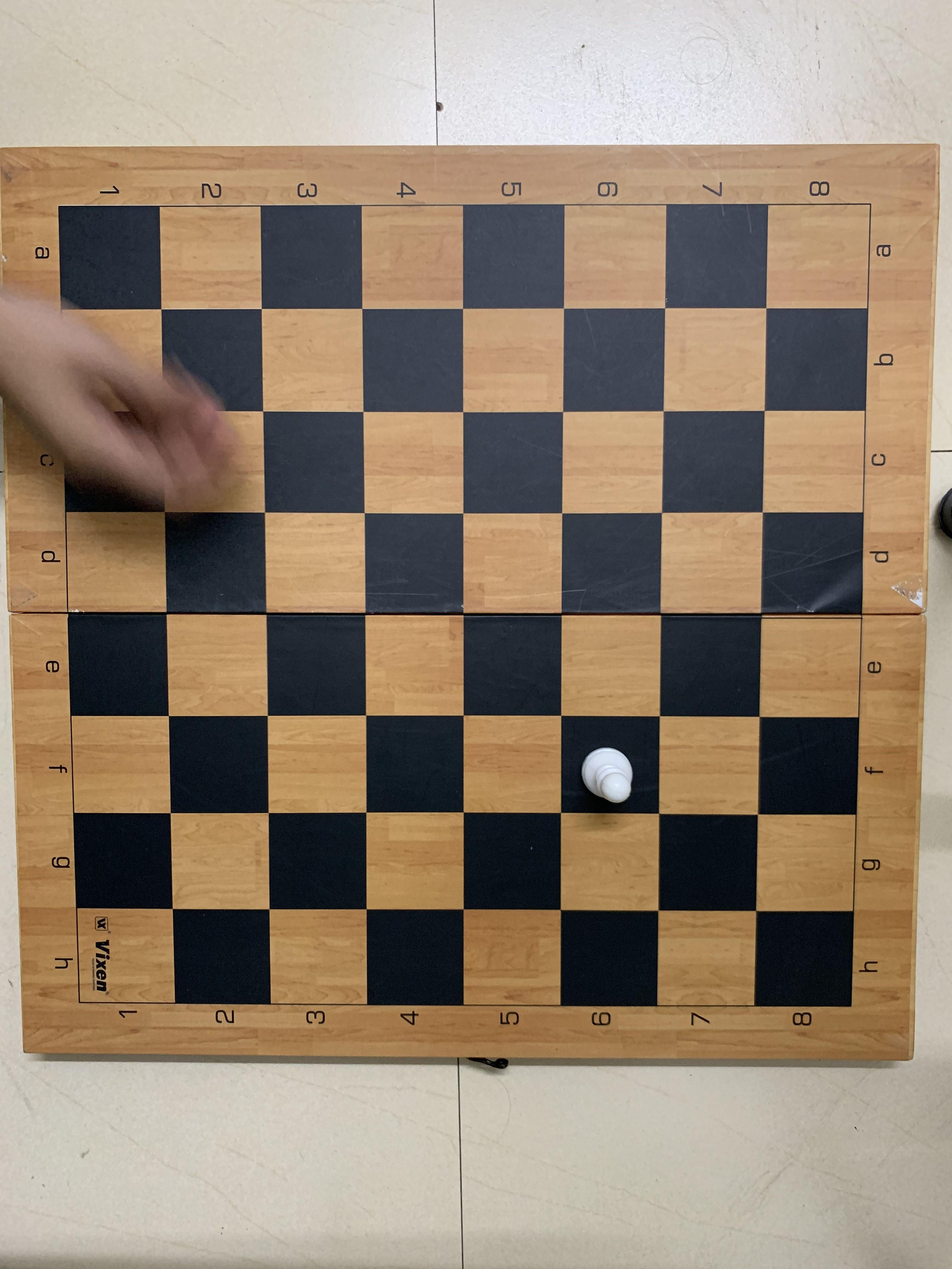white_pawn: (560, 709, 660, 814)
